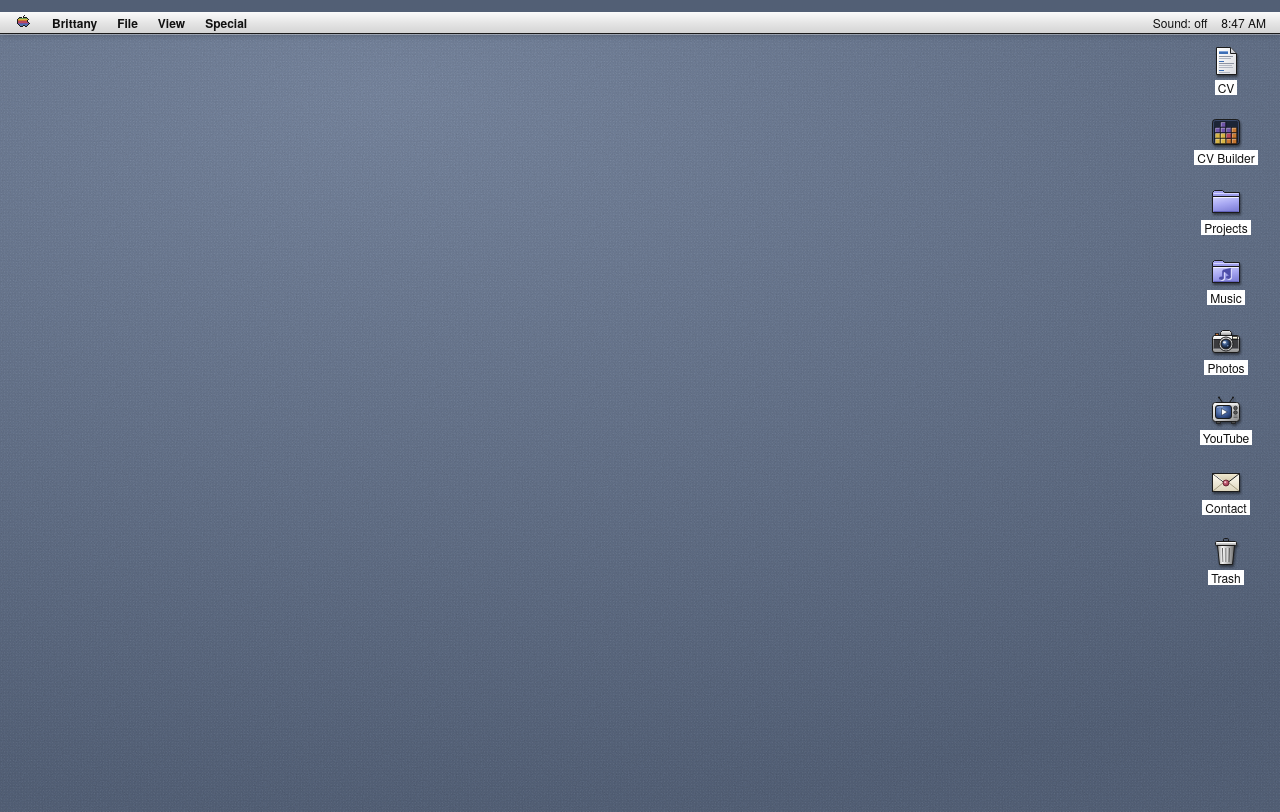
Scenario: Music folder › an instrument window shows only its name as a heading
Step 1. Double-click the button "Music" → x=1226, y=280, box top-left (1180, 252), bottom-right (1272, 308)
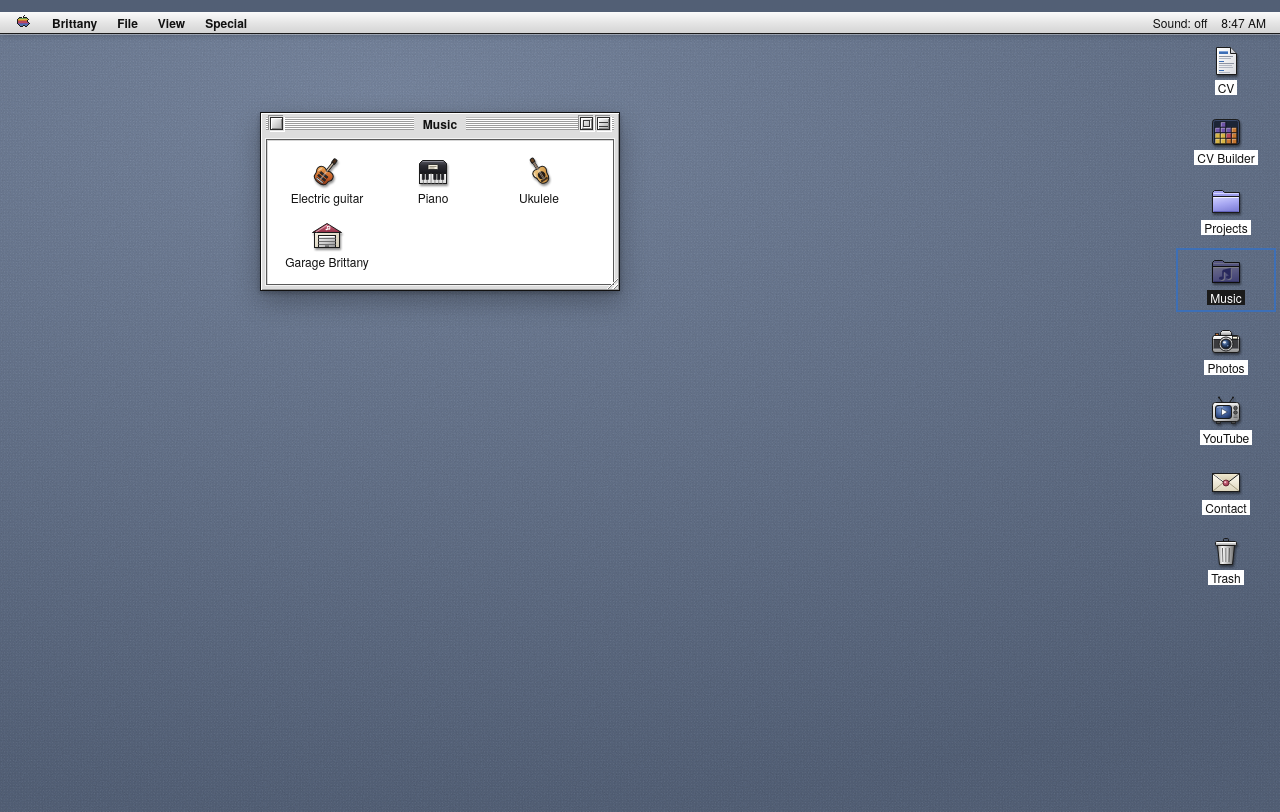
Step 2. Double-click the button "Electric guitar" → x=327, y=180, box top-left (281, 152), bottom-right (373, 208)
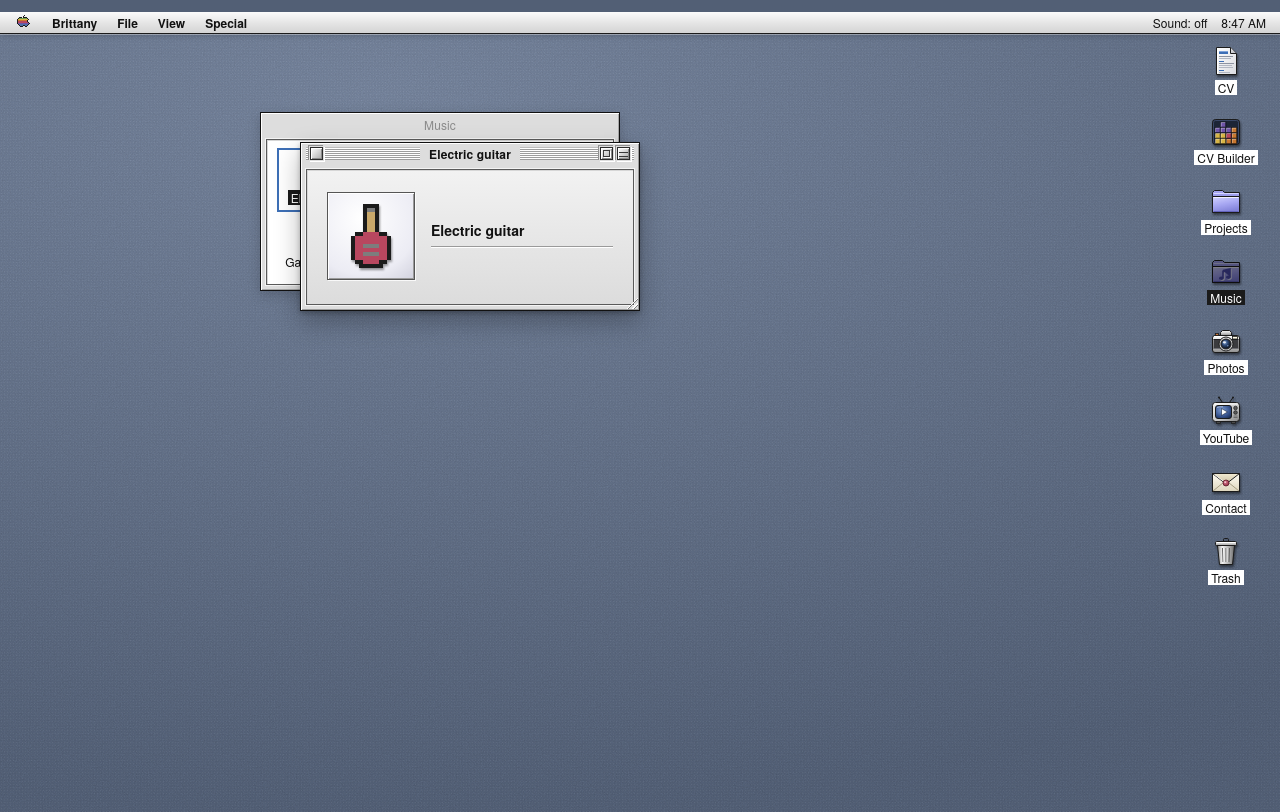
Expected: the heading reads "Electric guitar", top-left (431, 220), bottom-right (524, 240)
